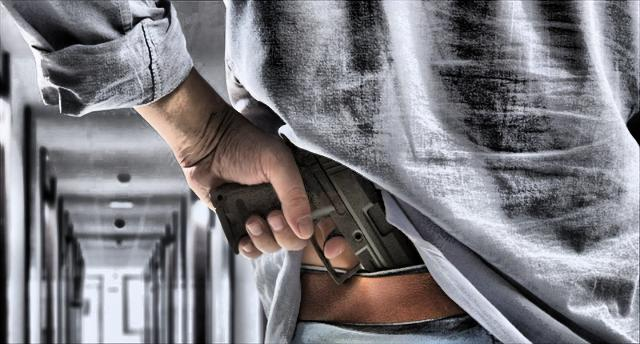pistol: (206, 130, 447, 290)
